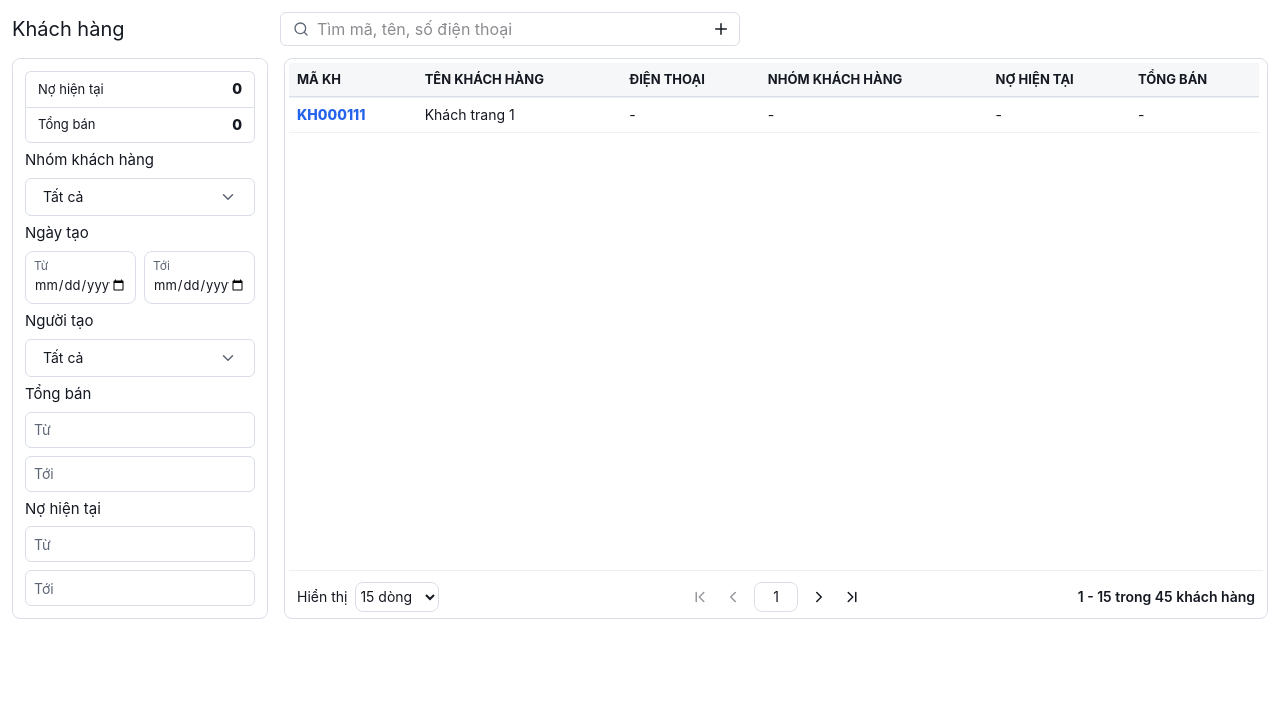
Test: uses the shared pagination footer to move between customer pages
Expected: the text "KH000111" is shown, [297,106,365,124]
Expected: the field named "Trang hiện tại" holds "1", [754,582,798,612]
Click the button named "Trang sau".
click(819, 597)  # box [806,584,832,610]
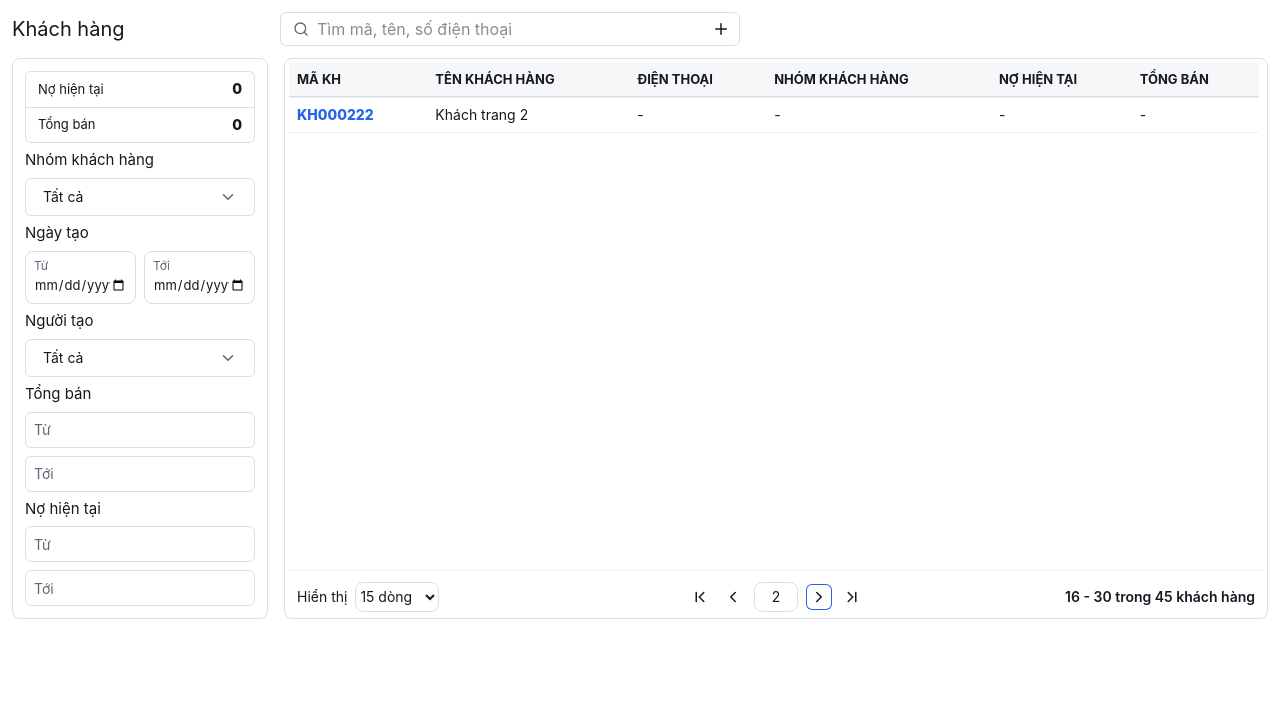
Now the text "KH000222" is shown, box [297,106,374,124]
Now the field named "Trang hiện tại" holds "2", box [754,582,798,612]
